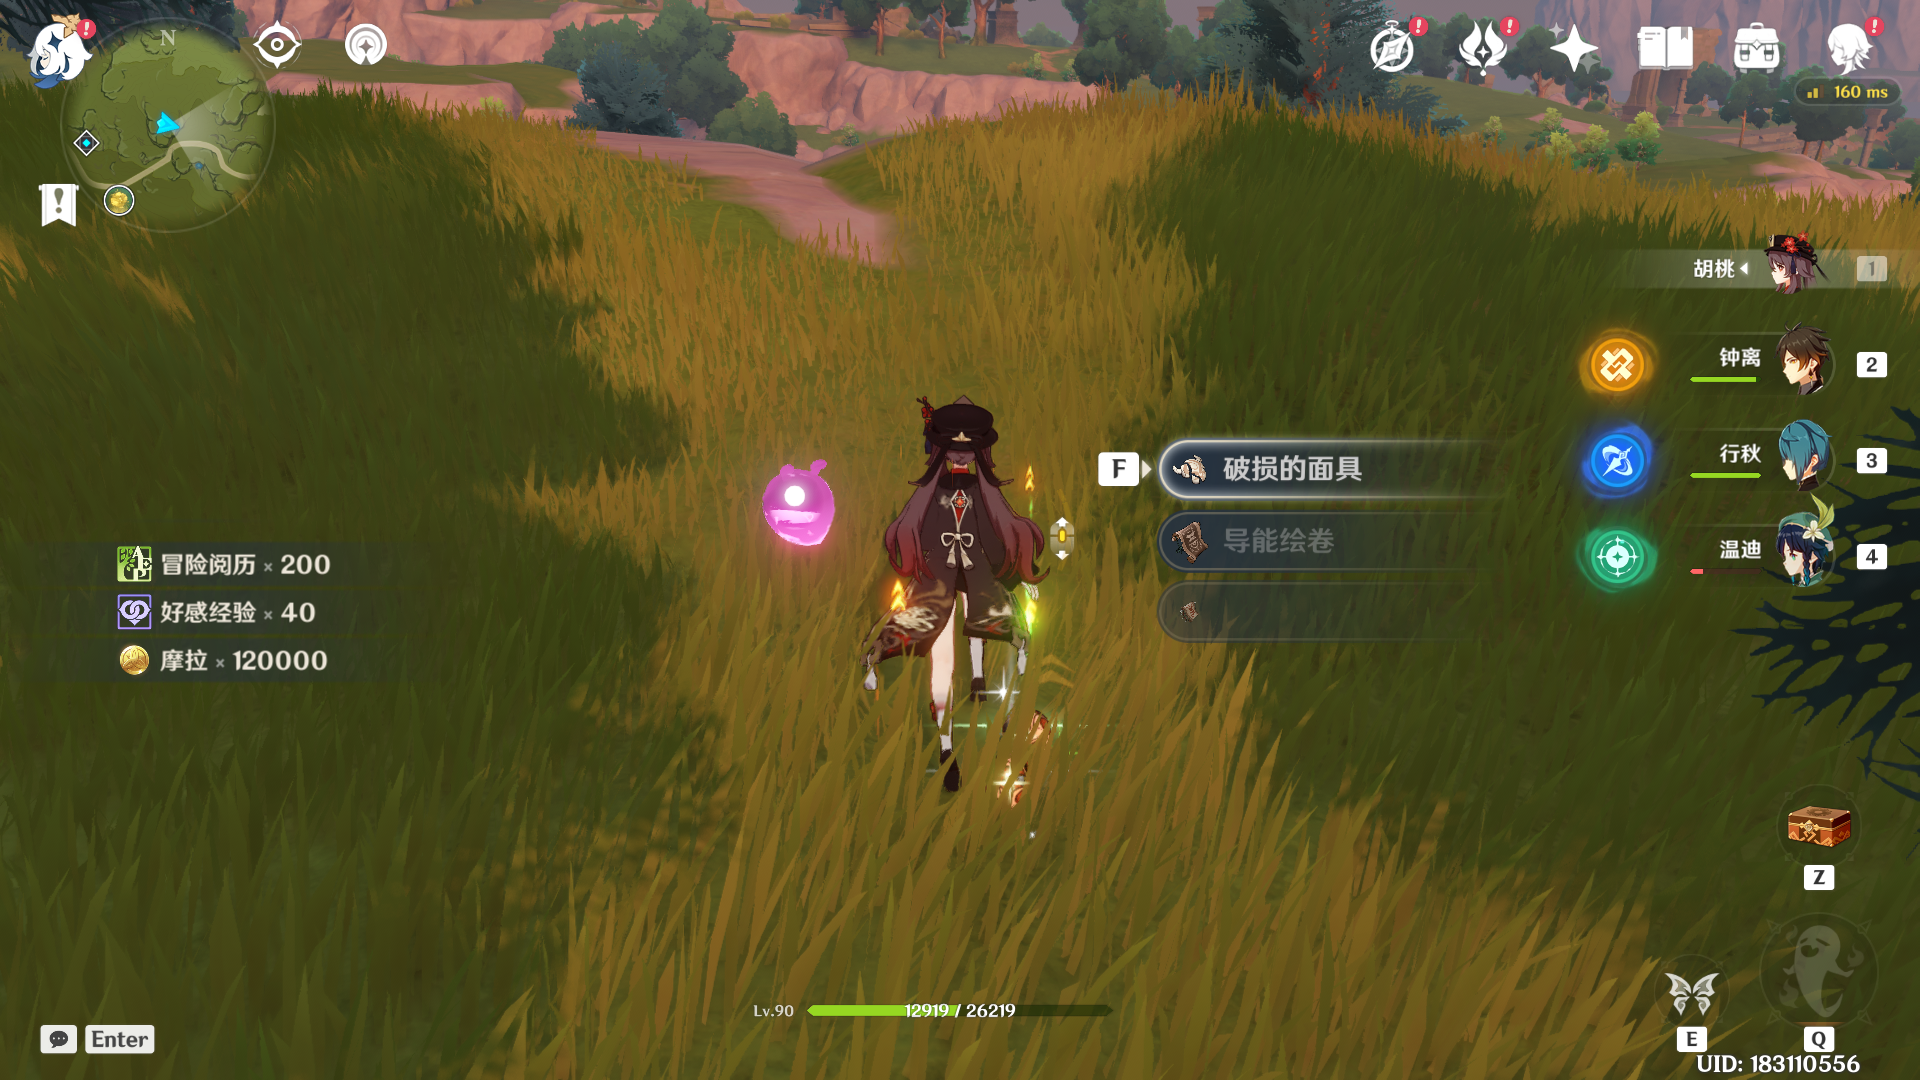character: (766, 363, 1131, 773)
